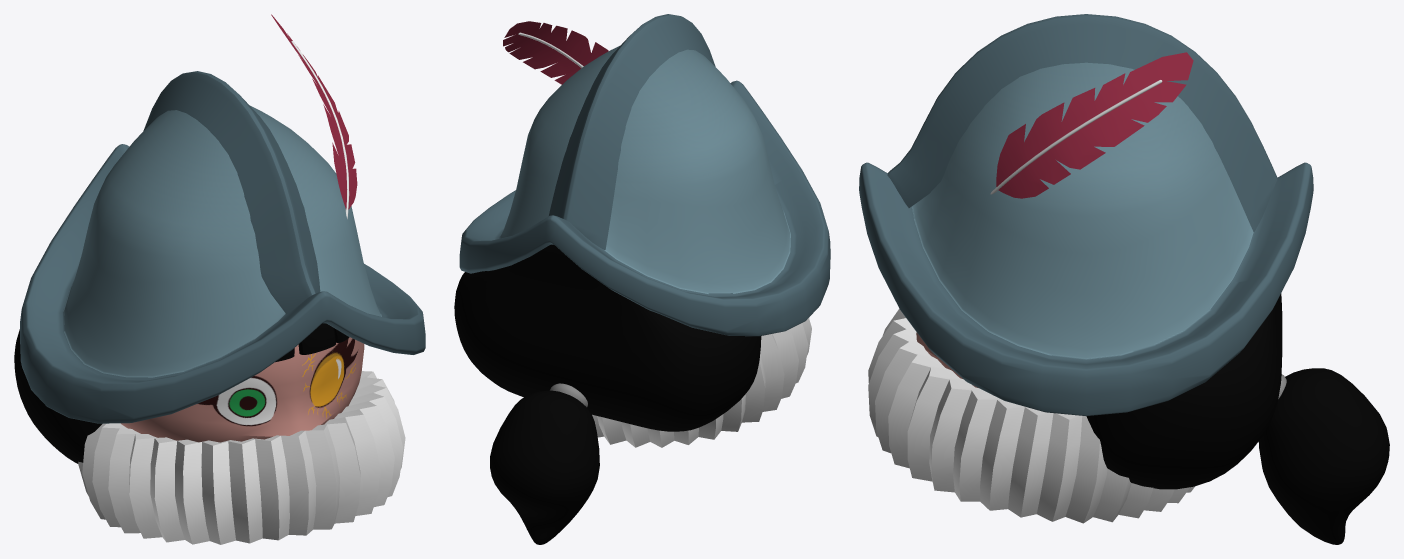
The model's file is SpanishModel.fbx.
3 renders of one model, left to right at view 1: azimuth 30°, elevation 25°; view 2: azimuth 150°, elevation 25°; view 3: azimuth 270°, elevation 25°, orthographic. The views are drawn at different scales.
Parts seen in each view (by area): view 1: Cylinder.001; view 2: Cylinder.001; view 3: Cylinder.001.
Boxes of the visible parts, x1,y1,x2,y2 form: Cylinder.001: [14, 14, 425, 544]; Cylinder.001: [454, 14, 830, 544]; Cylinder.001: [859, 14, 1389, 544].
Size of the model in its own units: 168 by 226 by 201.
Materials: 7 (2 with a texture image).
